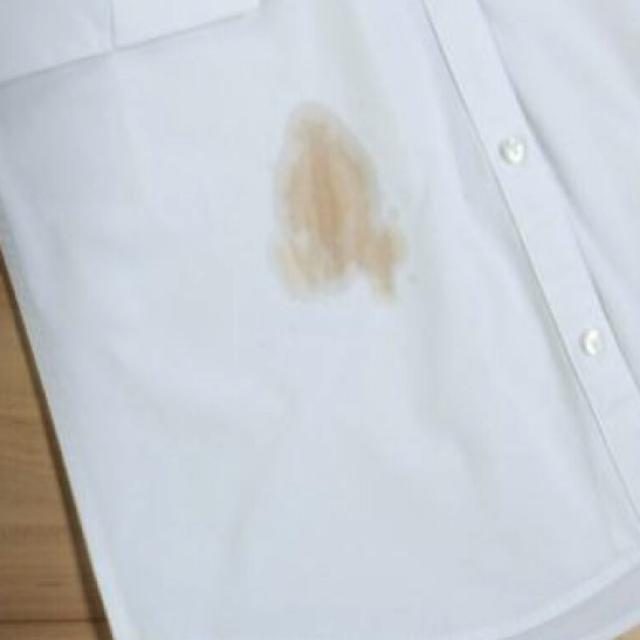coffee: (271, 103, 404, 303)
